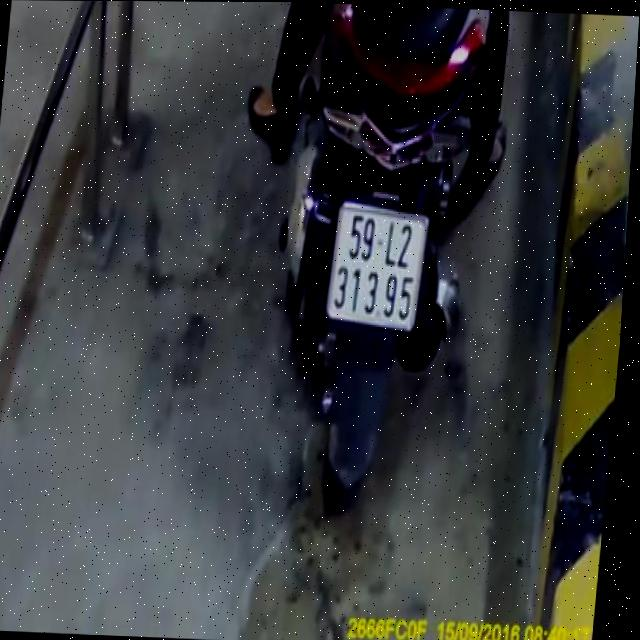motorcycle: (254, 2, 493, 520)
plate: (318, 198, 430, 333)
